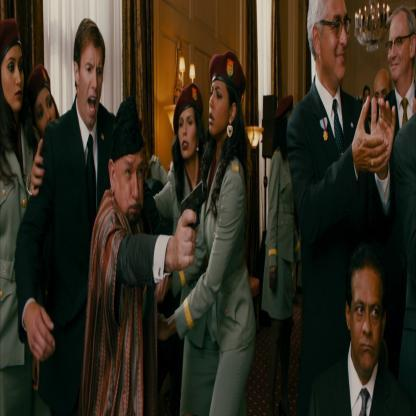gun: (166, 181, 212, 245)
